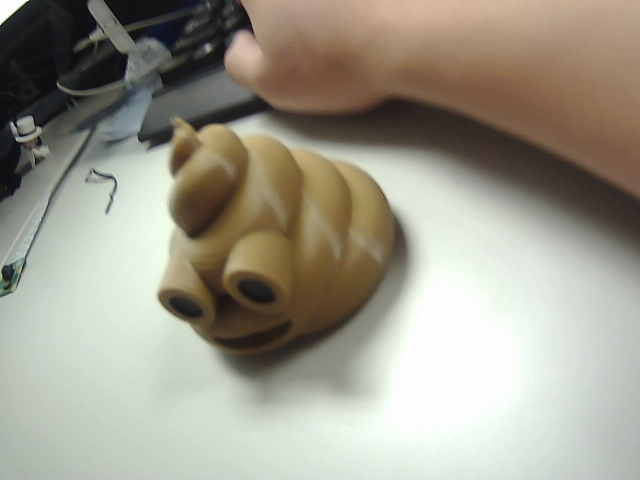shit: (152, 111, 403, 368)
